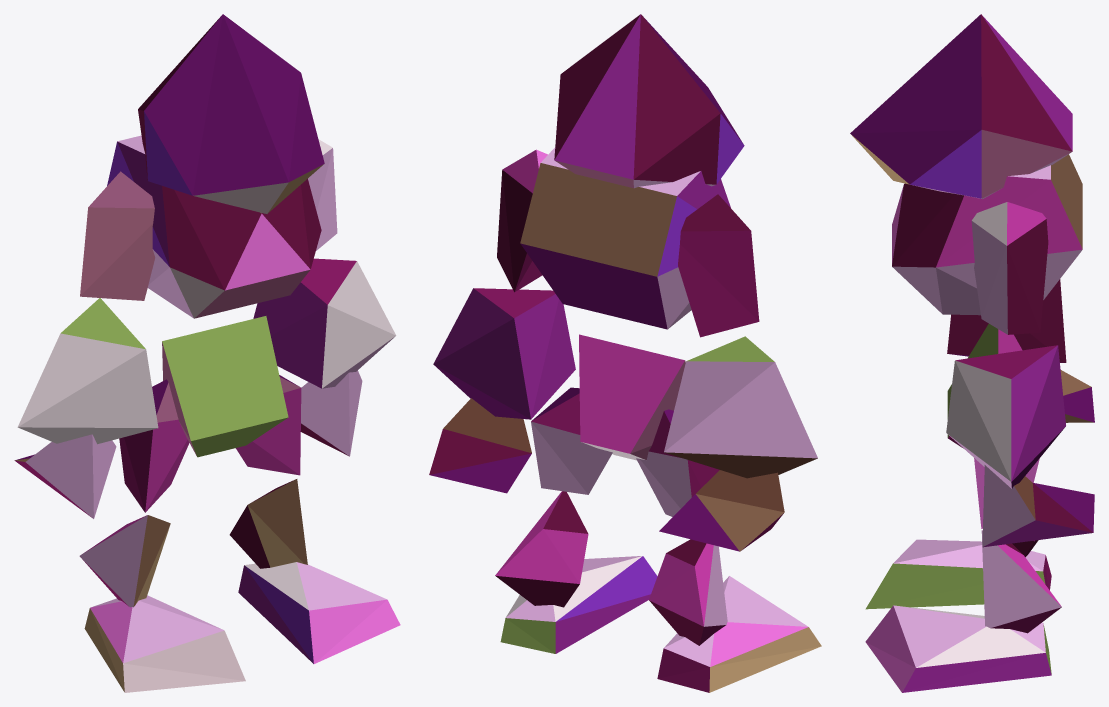
The model's file is dkpoly.obj.
3 views of the same model, side by side, from view 1: azimuth 30°, elevation 25°; view 2: azimuth 150°, elevation 25°; view 3: azimuth 270°, elevation 25° (orthographic). The views are drawn at different scales.
Visible parts, largest first — view 1: Nemu_60999451_0_007, Nemu_60999451_0_003, Nemu_60999451_0_009, Nemu_60999451_0_002, Nemu_60999451_0_005, Nemu_60999451_0_016, Nemu_60999451_0_013, Nemu_60999451_0_008, Nemu_60999451_0_014, Nemu_60999451_0_015, Nemu_60999451_0_012, Nemu_60999451_0_010 (+3 smaller); view 2: Nemu_60999451_0_007, Nemu_60999451_0_003, Nemu_60999451_0_009, Nemu_60999451_0_005, Nemu_60999451_0_002, Nemu_60999451_0_016, Nemu_60999451_0_008, Nemu_60999451_0_013, Nemu_60999451_0_010, Nemu_60999451_0_006, Nemu_60999451_0_012, Nemu_60999451_0_015 (+3 smaller); view 3: Nemu_60999451_0_007, Nemu_60999451_0_003, Nemu_60999451_0_005, Nemu_60999451_0_013, Nemu_60999451_0_004, Nemu_60999451_0_016, Nemu_60999451_0_006, Nemu_60999451_0_012, Nemu_60999451_0_009, Nemu_60999451_0_010, Nemu_60999451_0_002, Nemu_60999451_0_011.
Part boxes in pixels (left/top/right/bottom): Nemu_60999451_0_007: left=138, top=14, right=324, bottom=213; Nemu_60999451_0_003: left=107, top=135, right=321, bottom=318; Nemu_60999451_0_009: left=17, top=298, right=158, bottom=444; Nemu_60999451_0_002: left=162, top=316, right=288, bottom=457; Nemu_60999451_0_005: left=253, top=258, right=396, bottom=388; Nemu_60999451_0_016: left=84, top=595, right=245, bottom=692; Nemu_60999451_0_013: left=238, top=562, right=400, bottom=663; Nemu_60999451_0_008: left=80, top=171, right=155, bottom=300; Nemu_60999451_0_014: left=119, top=379, right=189, bottom=512; Nemu_60999451_0_015: left=79, top=515, right=170, bottom=607; Nemu_60999451_0_012: left=229, top=479, right=307, bottom=568; Nemu_60999451_0_010: left=14, top=434, right=116, bottom=518; Nemu_60999451_0_007: left=554, top=14, right=744, bottom=188; Nemu_60999451_0_003: left=520, top=147, right=730, bottom=329; Nemu_60999451_0_009: left=664, top=336, right=817, bottom=478; Nemu_60999451_0_005: left=433, top=288, right=575, bottom=419; Nemu_60999451_0_002: left=579, top=334, right=685, bottom=460; Nemu_60999451_0_016: left=657, top=576, right=821, bottom=692; Nemu_60999451_0_008: left=678, top=194, right=759, bottom=337; Nemu_60999451_0_013: left=500, top=556, right=657, bottom=653; Nemu_60999451_0_010: left=659, top=470, right=784, bottom=551; Nemu_60999451_0_006: left=429, top=398, right=531, bottom=493; Nemu_60999451_0_012: left=495, top=491, right=588, bottom=607; Nemu_60999451_0_015: left=649, top=539, right=727, bottom=645; Nemu_60999451_0_007: left=850, top=14, right=1072, bottom=198; Nemu_60999451_0_003: left=892, top=154, right=1082, bottom=315; Nemu_60999451_0_005: left=946, top=345, right=1065, bottom=488; Nemu_60999451_0_013: left=865, top=605, right=1051, bottom=692; Nemu_60999451_0_004: left=971, top=202, right=1048, bottom=334; Nemu_60999451_0_016: left=865, top=539, right=1051, bottom=609; Nemu_60999451_0_006: left=982, top=465, right=1094, bottom=547; Nemu_60999451_0_012: left=981, top=530, right=1061, bottom=633; Nemu_60999451_0_009: left=947, top=279, right=1066, bottom=362; Nemu_60999451_0_010: left=1060, top=370, right=1094, bottom=422; Nemu_60999451_0_002: left=947, top=324, right=1022, bottom=448; Nemu_60999451_0_011: left=974, top=458, right=1039, bottom=528.
Size of the model in its own units: 0.7166 by 1.12 by 0.4042.
